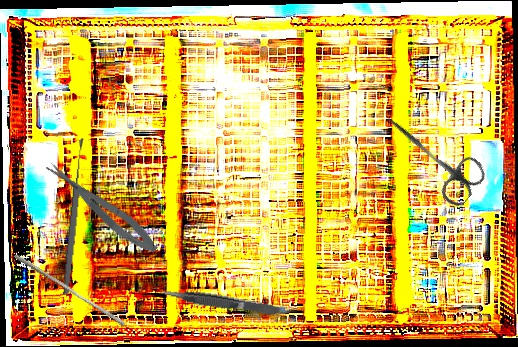Iris Scissors: (370, 100, 491, 211)
Micro Scissor: (42, 153, 163, 261)
Pusher: (10, 252, 129, 328)
Surgical Spoon: (61, 137, 87, 296)
Tissue Forceps: (157, 283, 281, 320)
